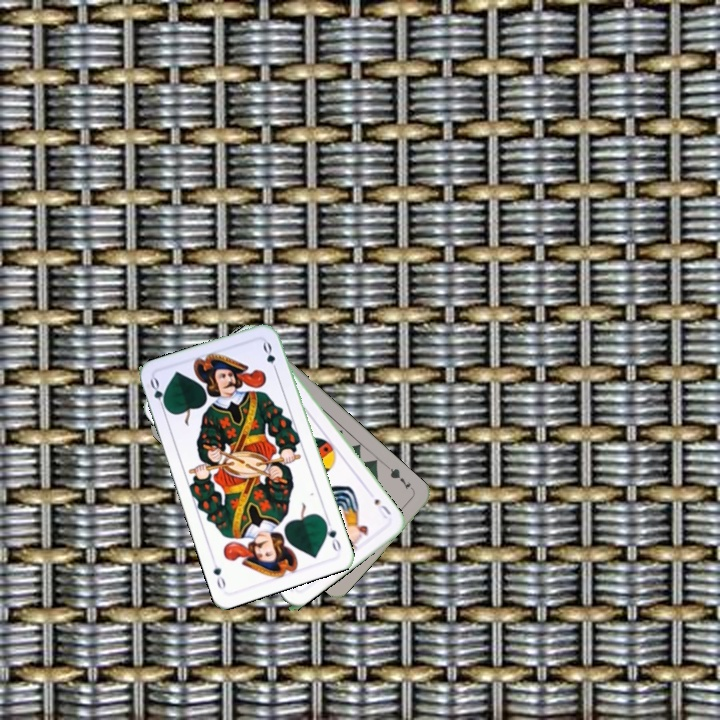G7: (384, 463, 413, 492)
GO: (146, 374, 171, 414), (320, 515, 344, 555)
SU: (370, 494, 394, 521)
